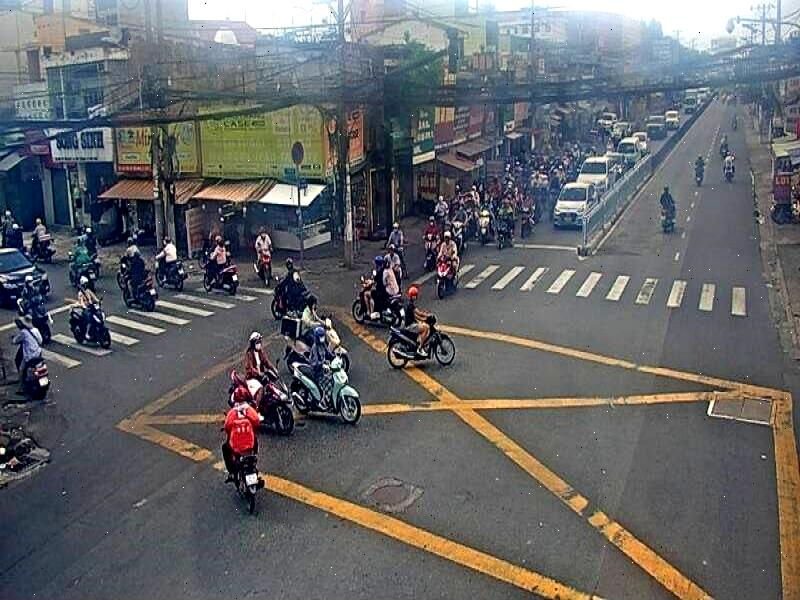car: (0, 247, 52, 309), (552, 184, 599, 232), (576, 156, 614, 199)
motorcycle: (226, 368, 300, 441), (291, 354, 363, 428), (386, 312, 458, 374), (349, 278, 410, 325), (13, 334, 53, 404), (68, 296, 116, 352), (228, 452, 268, 518), (270, 278, 315, 318), (125, 268, 160, 316), (202, 252, 239, 296), (436, 251, 461, 302), (255, 245, 274, 289)
